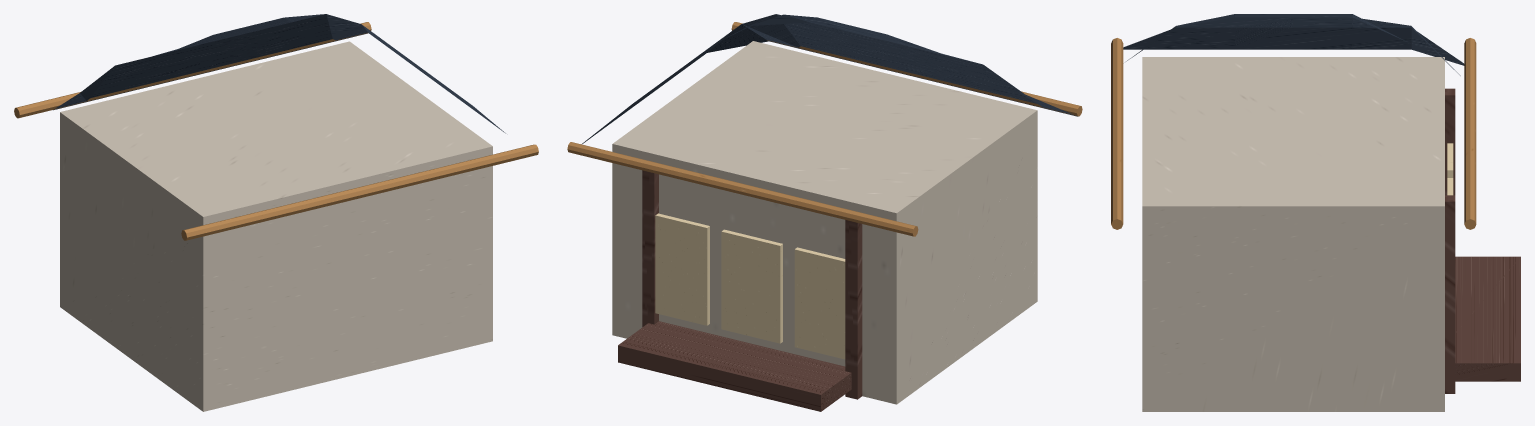
The model's file is shogun_market_shop_lod0.glb.
3 renders of one model, left to right at view 1: azimuth 30°, elevation 25°; view 2: azimuth 150°, elevation 25°; view 3: azimuth 270°, elevation 25°, orthographic. The views are drawn at different scales.
Parts seen in each view (by area): view 1: shogun_market_shop_000, shogun_market_shop_001, shogun_market_shop_003, shogun_market_shop_002; view 2: shogun_market_shop_000, shogun_market_shop_009, shogun_market_shop_001, shogun_market_shop_007, shogun_market_shop_008, shogun_market_shop_006, shogun_market_shop_002, shogun_market_shop_004, shogun_market_shop_005, shogun_market_shop_003; view 3: shogun_market_shop_000, shogun_market_shop_001, shogun_market_shop_009, shogun_market_shop_002, shogun_market_shop_003, shogun_market_shop_005, shogun_market_shop_004.
Part boxes in pixels (x1,y1,x2,y2): shogun_market_shop_000: (60,41,492,411); shogun_market_shop_001: (53,14,505,133); shogun_market_shop_003: (181,144,538,240); shogun_market_shop_002: (14,22,371,118); shogun_market_shop_000: (612,41,1037,404); shogun_market_shop_009: (618,321,851,411); shogun_market_shop_001: (582,14,1078,143); shogun_market_shop_007: (721,229,782,343); shogun_market_shop_008: (655,213,709,325); shogun_market_shop_006: (794,247,845,359); shogun_market_shop_002: (567,142,918,236); shogun_market_shop_004: (845,220,862,399); shogun_market_shop_005: (642,170,658,326); shogun_market_shop_003: (731,22,1082,116); shogun_market_shop_000: (1142,57,1444,411); shogun_market_shop_001: (1123,14,1464,75); shogun_market_shop_009: (1455,256,1520,381); shogun_market_shop_002: (1464,38,1476,229); shogun_market_shop_003: (1111,38,1123,229); shogun_market_shop_005: (1445,195,1455,393); shogun_market_shop_004: (1445,88,1455,195).
Bounding box in the file's own units: 8.5 × 6.8 × 8.12.
Materials: 5 (5 with a texture image).
